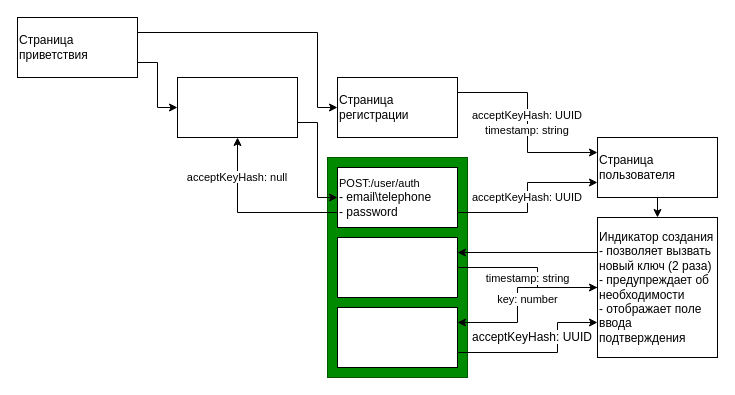
Some shapes in this 735 by 395 pixel diagram are drawn without their labels. The centre of each missing label's shape, as x and y in pixels:
GET:/user/verify - key: the point at 397,337
POST:/user/create - email\telephone - password: the point at 397,267
Страница авторизации: the point at 237,107
